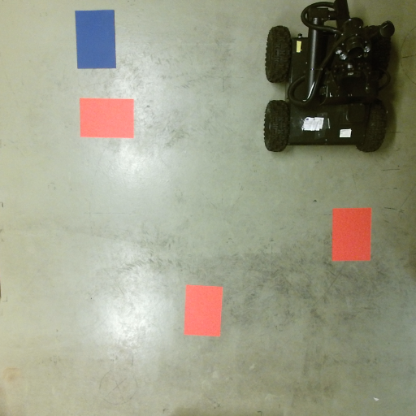Blue: (74, 11, 118, 70)
Jaguar: (263, 0, 391, 154)
Red: (78, 99, 136, 138), (331, 209, 373, 261), (184, 285, 220, 336)
